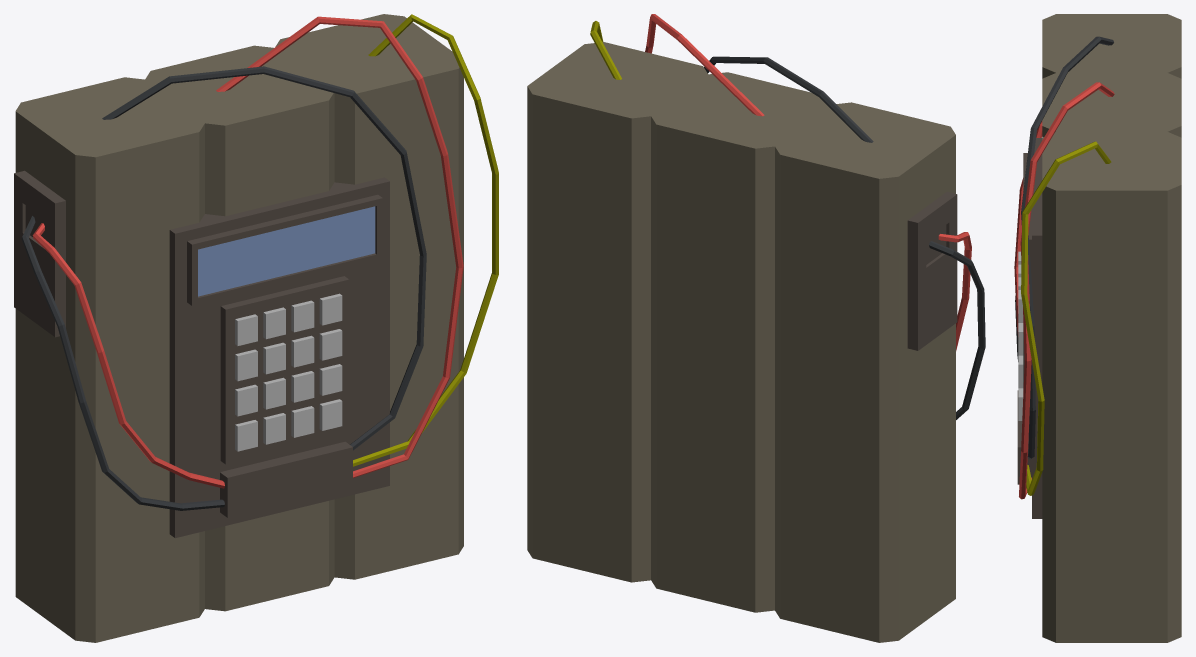
3 views of the same model, side by side, from view 1: azimuth 30°, elevation 25°; view 2: azimuth 150°, elevation 25°; view 3: azimuth 270°, elevation 25° (orthographic). The views are drawn at different scales.
Parts seen in each view (by area): view 1: C4_3; view 2: C4_3; view 3: C4_3.
Boxes of the visible parts, x1,y1,x2,y2 form: C4_3: (14,14,498,642); C4_3: (527,14,985,642); C4_3: (1014,14,1181,642).
Bounding box in the file's own units: 0.2053 × 0.2393 × 0.0718.
